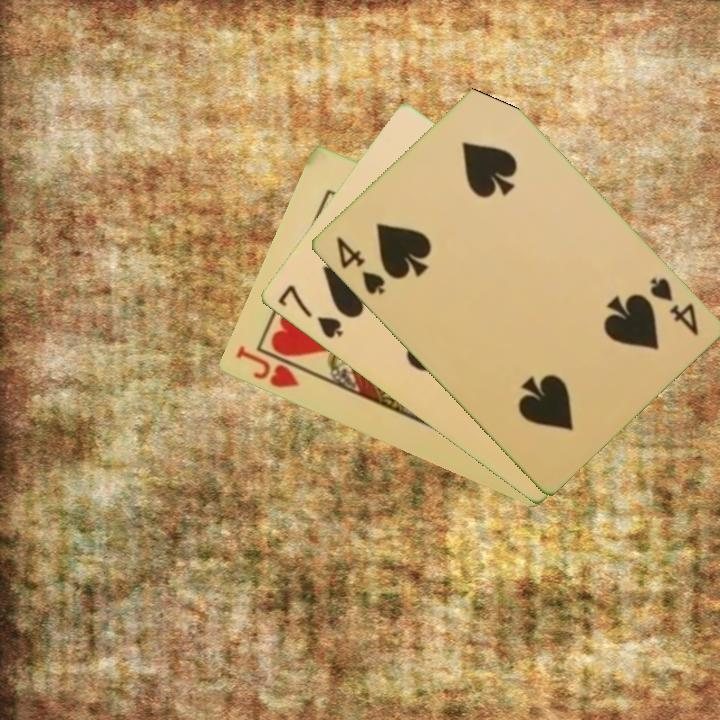4s: (645, 274, 702, 339), (332, 232, 388, 298)
7s: (273, 281, 346, 342)
Jh: (232, 341, 315, 392)
